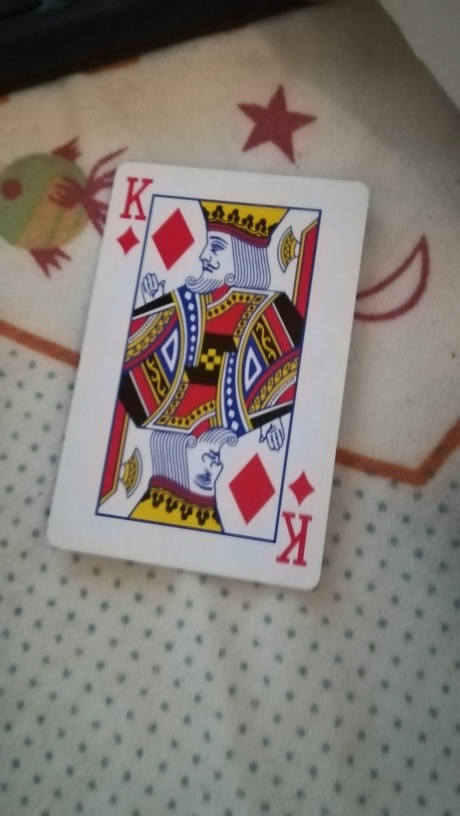fk k: (46, 151, 371, 593)
